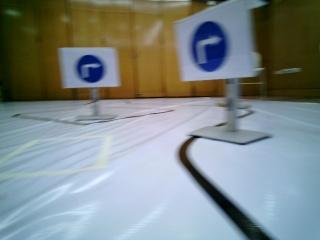right: (175, 20, 254, 71), (61, 48, 117, 87)
